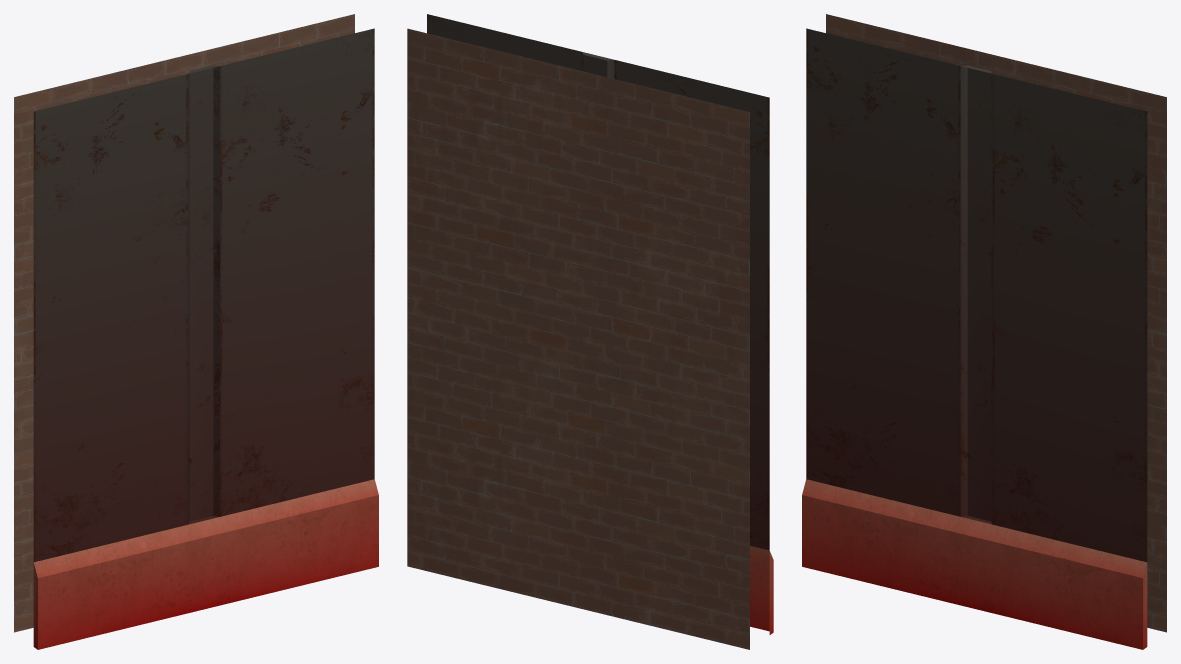
Rendered from Metal_FirstFloor_Wall.gltf.
The picture shows the model from 3 angles, left to right: view 1: azimuth 30°, elevation 25°; view 2: azimuth 150°, elevation 25°; view 3: azimuth 330°, elevation 25°; orthographic projection.
Parts seen in each view (by area): view 1: Metal_FirstFloor_Wall; view 2: Metal_FirstFloor_Wall; view 3: Metal_FirstFloor_Wall.
Boxes of the visible parts, left/top/right/bottom form: Metal_FirstFloor_Wall: left=14, top=14, right=378, bottom=649; Metal_FirstFloor_Wall: left=407, top=14, right=773, bottom=649; Metal_FirstFloor_Wall: left=802, top=14, right=1166, bottom=649.
Size of the model in its own units: 2 by 3 by 0.242.
3 materials, 3 textured.
